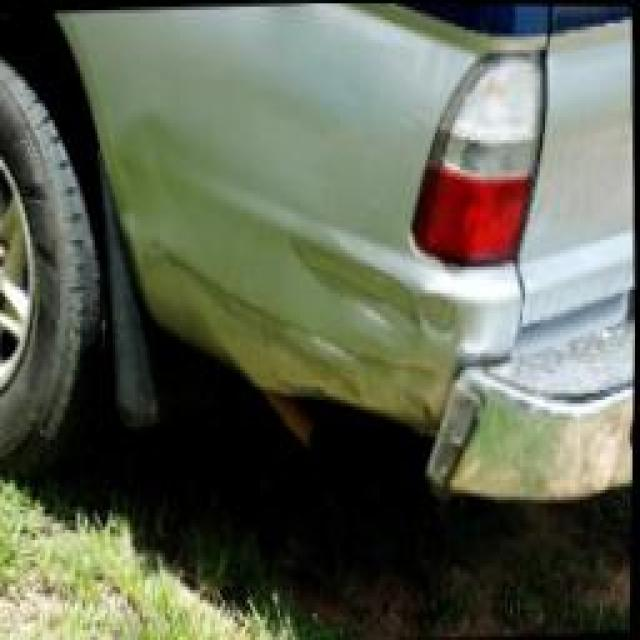Bumper: (128, 230, 470, 416)
